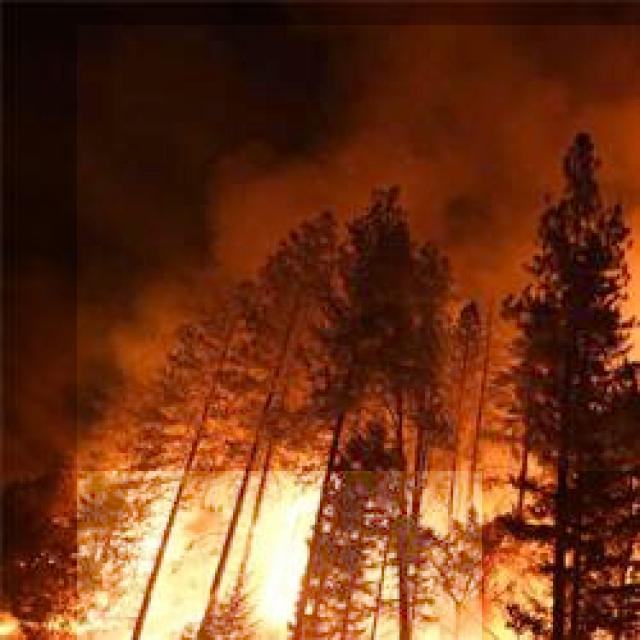Fire: (77, 443, 482, 640)
Smoke: (77, 25, 640, 471)
